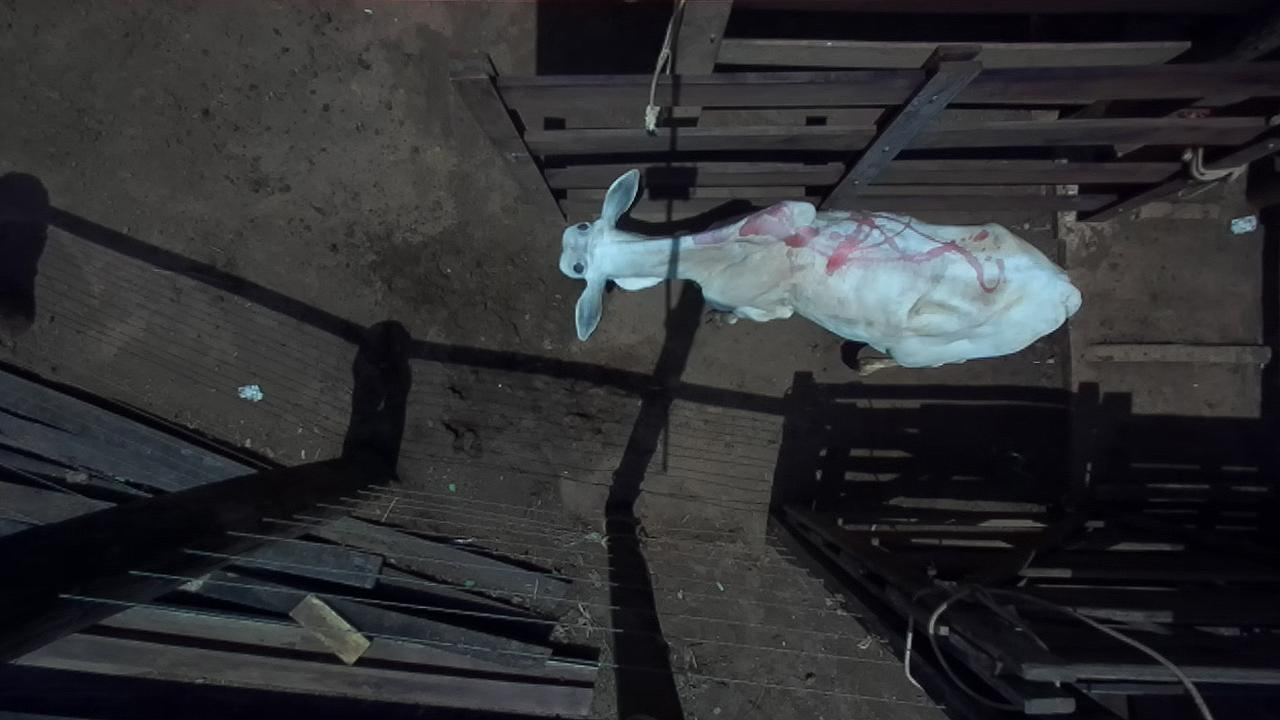cattle: (557, 167, 1083, 369)
